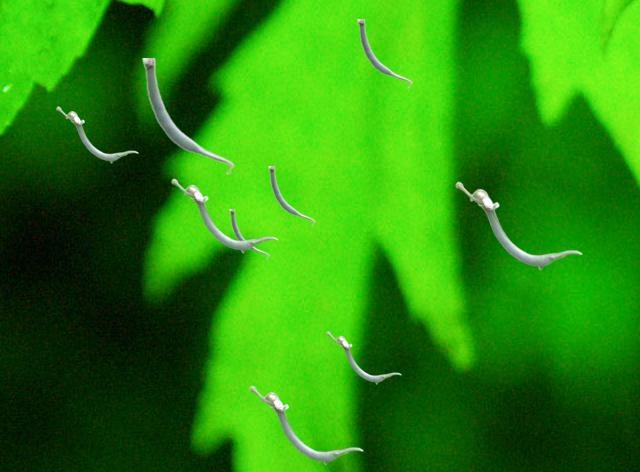french_bean: (455, 181, 581, 269), (142, 58, 233, 174), (249, 385, 362, 464), (171, 178, 277, 252), (56, 106, 137, 162), (326, 331, 400, 383), (357, 19, 411, 87), (268, 166, 314, 225), (229, 209, 268, 258)
